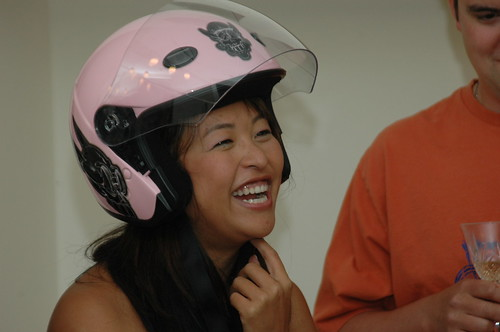helmet: (58, 8, 290, 224)
